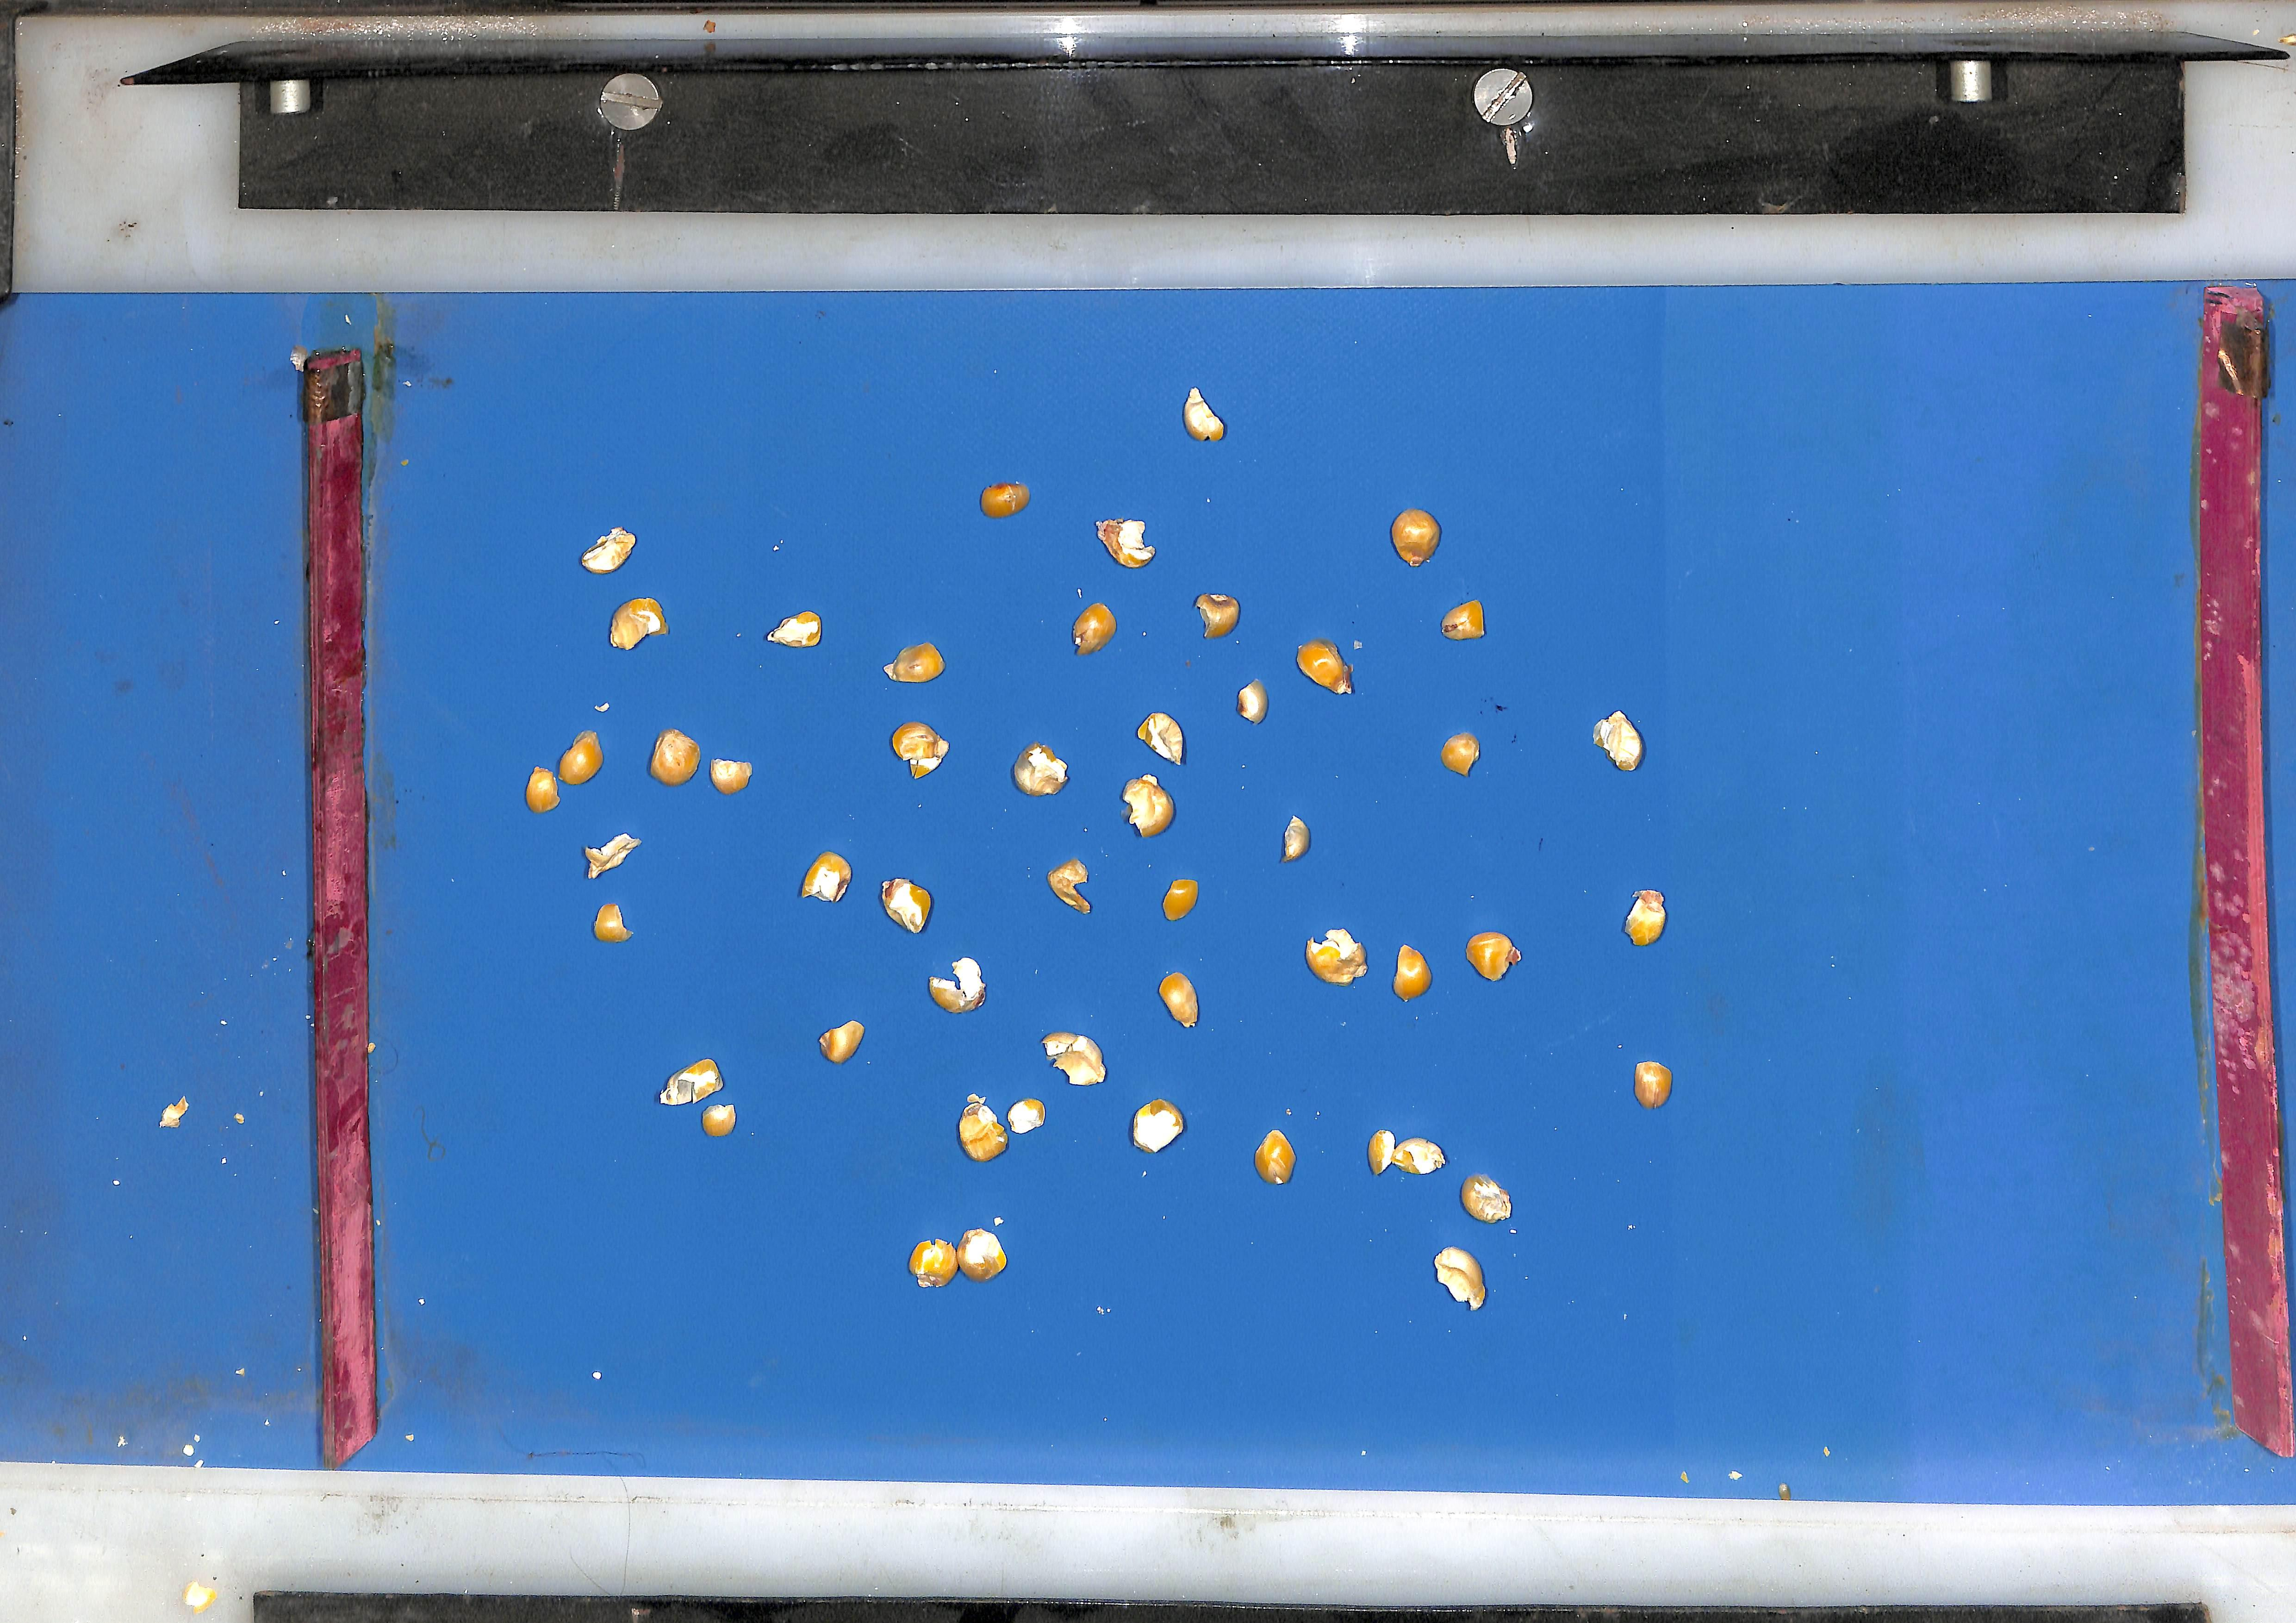Dm: (1306, 929, 1367, 985), (1043, 1031, 1106, 1086), (957, 1096, 1008, 1163), (1436, 1249, 1489, 1312), (890, 720, 948, 776), (929, 957, 985, 1013), (1297, 638, 1353, 694), (1011, 741, 1069, 796), (607, 595, 667, 648), (1123, 775, 1174, 836), (657, 1059, 721, 1107), (1596, 710, 1645, 771), (1130, 1100, 1185, 1154), (1392, 506, 1443, 564), (879, 878, 932, 933), (955, 1230, 1008, 1284), (648, 729, 699, 785), (1097, 518, 1155, 566), (799, 850, 851, 901), (1467, 931, 1522, 980), (579, 525, 634, 573), (583, 833, 639, 878), (1462, 1175, 1513, 1224), (1137, 711, 1185, 764), (883, 641, 944, 682), (908, 1240, 958, 1288), (556, 729, 600, 783), (1625, 891, 1669, 945), (1048, 859, 1092, 912), (1073, 601, 1116, 653), (1255, 1131, 1297, 1186), (1183, 385, 1225, 439), (1159, 973, 1199, 1028), (1392, 1138, 1446, 1177), (1394, 945, 1432, 999), (767, 610, 822, 646), (818, 1021, 864, 1064), (1195, 592, 1239, 636), (1636, 1063, 1675, 1108), (1443, 599, 1487, 638), (979, 481, 1029, 515), (1443, 732, 1482, 775), (523, 766, 556, 811), (1164, 878, 1199, 920), (592, 903, 628, 941), (709, 759, 750, 794), (1006, 1100, 1044, 1135), (1281, 817, 1311, 861), (1369, 1131, 1397, 1175), (1239, 680, 1267, 722), (700, 1105, 735, 1136)
